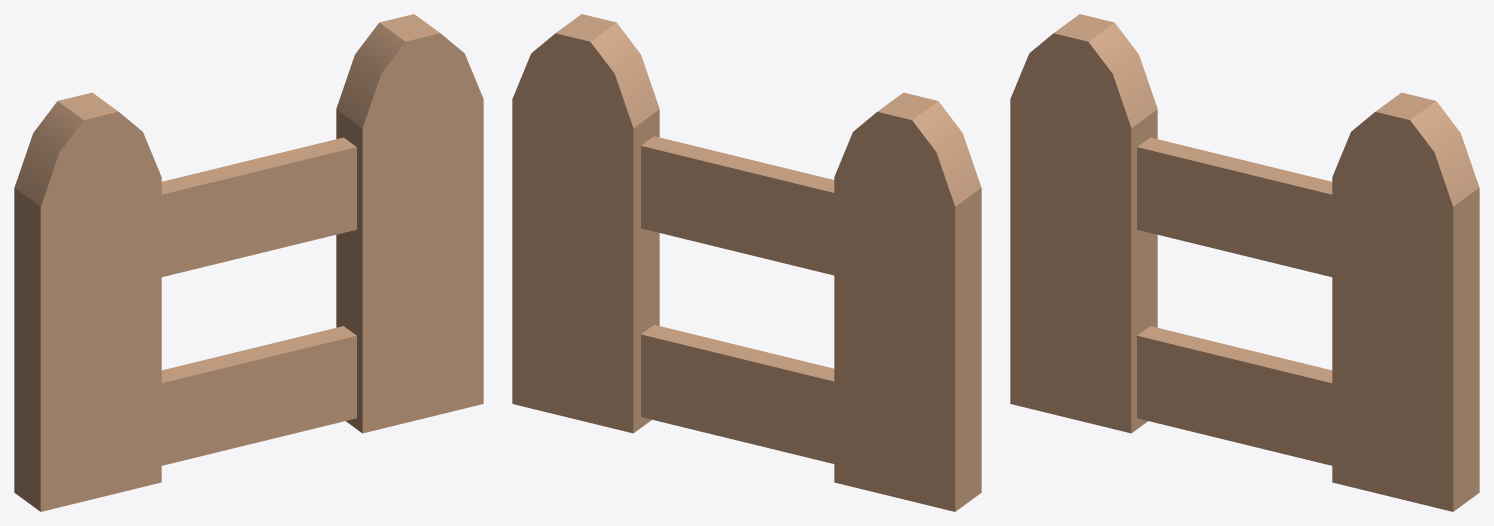
File: SM_Fence1.fbx
3 views of the same model, side by side, from view 1: azimuth 30°, elevation 25°; view 2: azimuth 150°, elevation 25°; view 3: azimuth 330°, elevation 25° (orthographic).
Visible parts, largest first — view 1: SM_Fence1; view 2: SM_Fence1; view 3: SM_Fence1.
Boxes of the visible parts, x1,y1,x2,y2 form: SM_Fence1: [14, 14, 483, 511]; SM_Fence1: [512, 14, 981, 511]; SM_Fence1: [1010, 14, 1479, 511].
Bounding box in the file's own units: 358 × 294 × 36.78.
